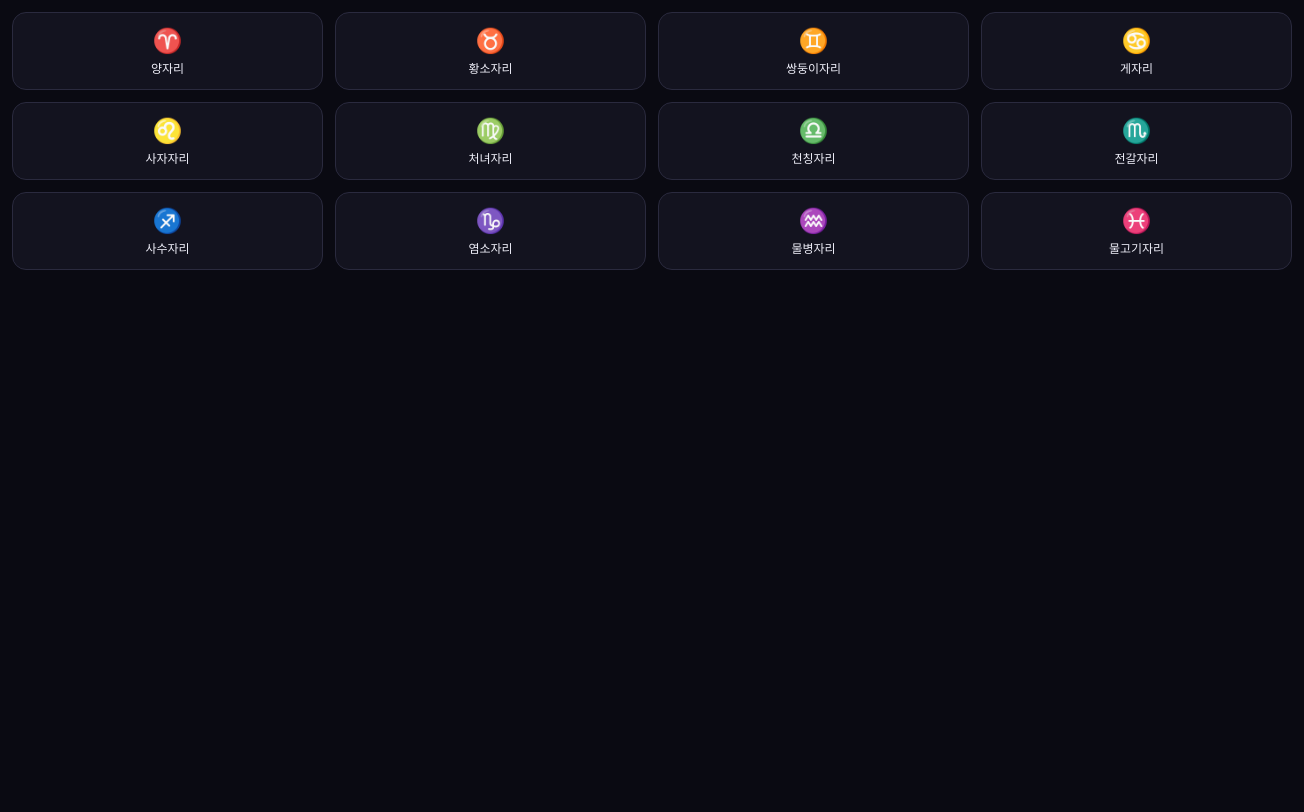
Test: ZodiacSelector › 버튼 클릭 시 해당 별자리 운세를 표시한다
The width and height of the screenshot is (1304, 812).
Click the button "♈ 양자리" at (168, 51), box [12,12,323,90]
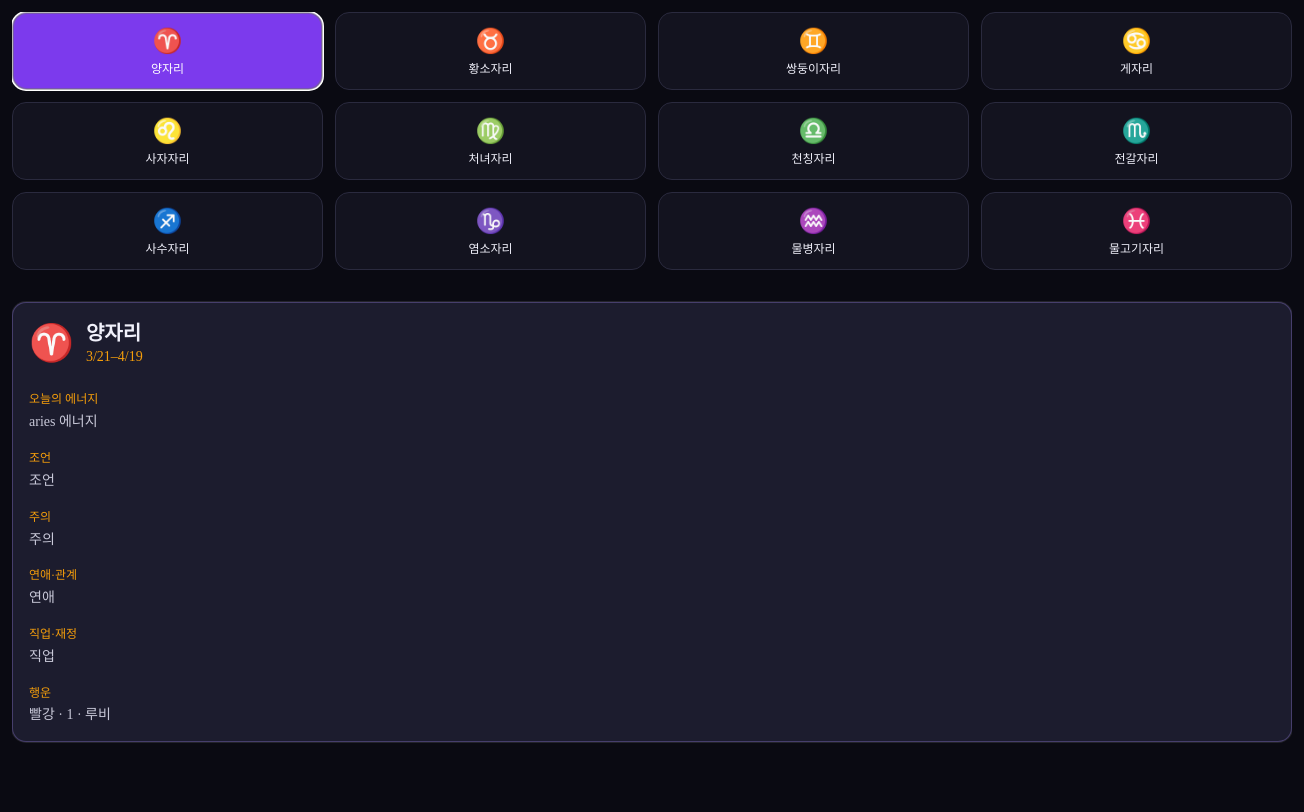
Result: the text "aries 에너지" is shown at [29,414,98,429]
